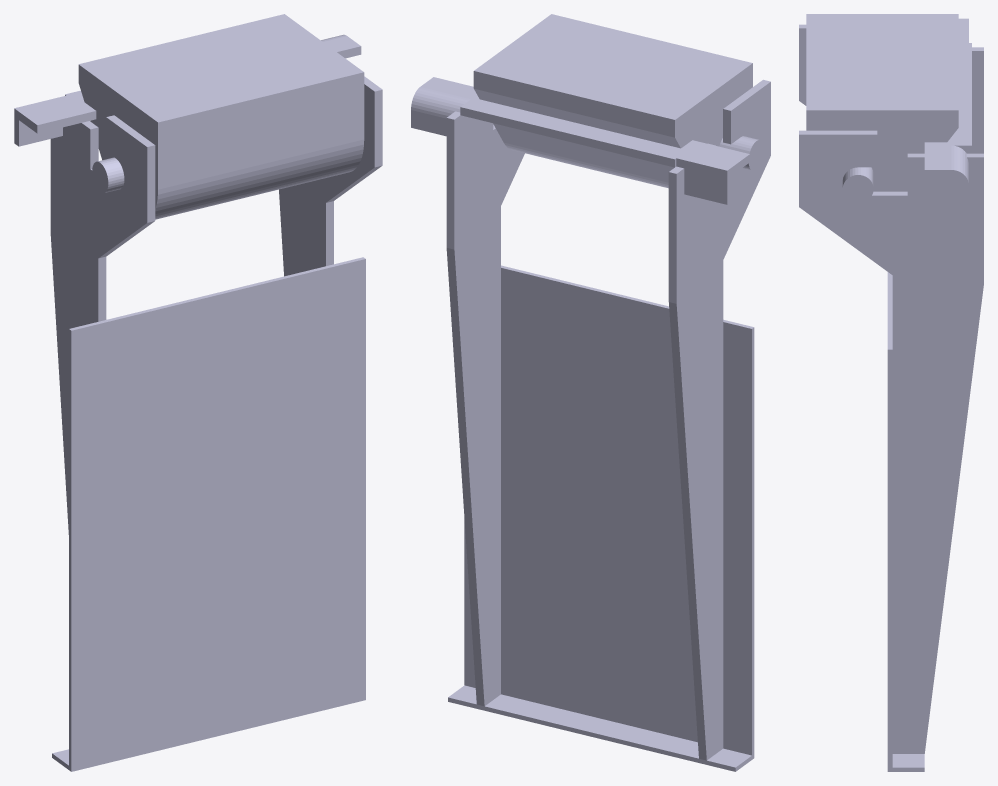
The model's file is STEP05.obj.
The picture shows the model from 3 angles, left to right: view 1: azimuth 30°, elevation 25°; view 2: azimuth 150°, elevation 25°; view 3: azimuth 270°, elevation 25°; orthographic projection. The views are drawn at different scales.
Parts seen in each view (by area): view 1: HSC_1000HLX_STEP_WK_000_1-1000HLX_STEP_TP019 (Meshed); view 2: HSC_1000HLX_STEP_WK_000_1-1000HLX_STEP_TP019 (Meshed); view 3: HSC_1000HLX_STEP_WK_000_1-1000HLX_STEP_TP019 (Meshed).
Boxes of the visible parts, <box> form: HSC_1000HLX_STEP_WK_000_1-1000HLX_STEP_TP019 (Meshed): <box>14,14,382,771</box>; HSC_1000HLX_STEP_WK_000_1-1000HLX_STEP_TP019 (Meshed): <box>411,14,770,771</box>; HSC_1000HLX_STEP_WK_000_1-1000HLX_STEP_TP019 (Meshed): <box>799,14,983,771</box>.
Size of the model in its own units: 242 by 478 by 125.
